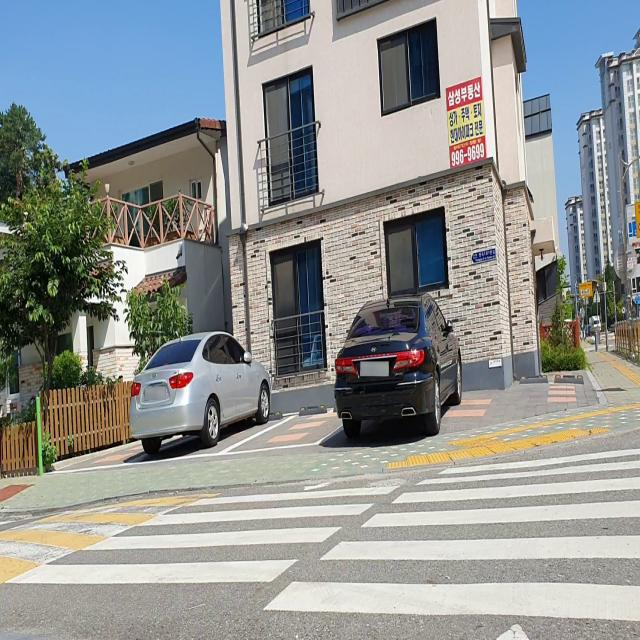횡단보도: (2, 447, 640, 639)
